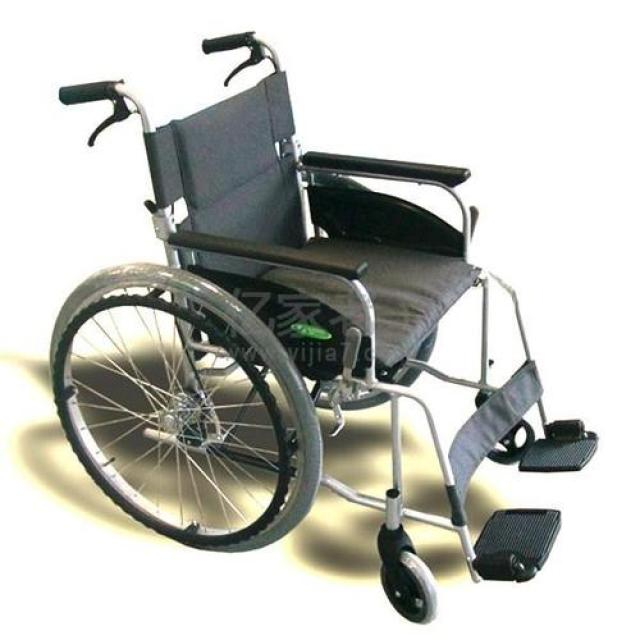wheelchairs: (36, 27, 602, 629)
